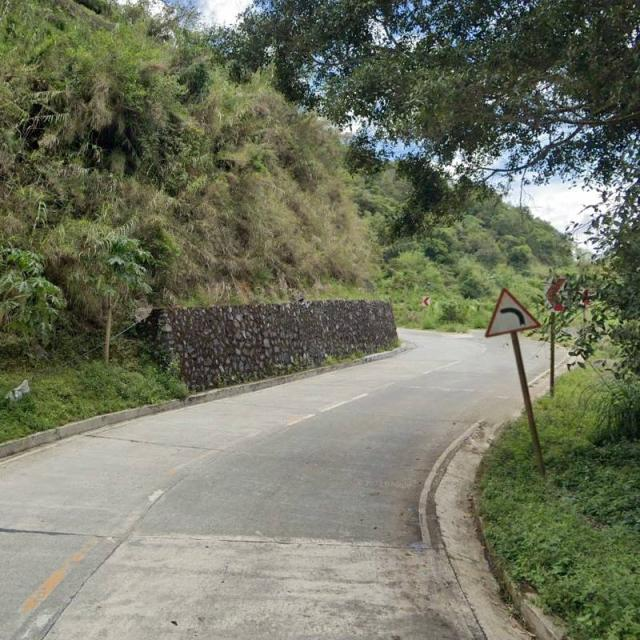warn_left_curve: (483, 288, 542, 340)
